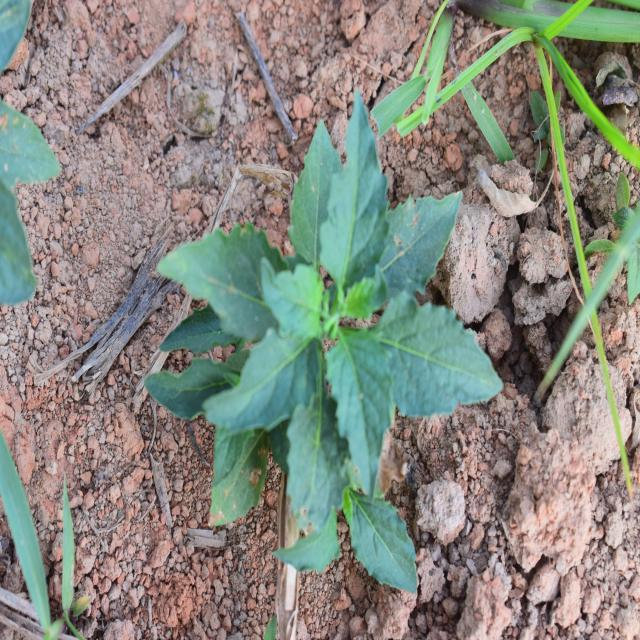Black_nightshade: (204, 130, 496, 529)
